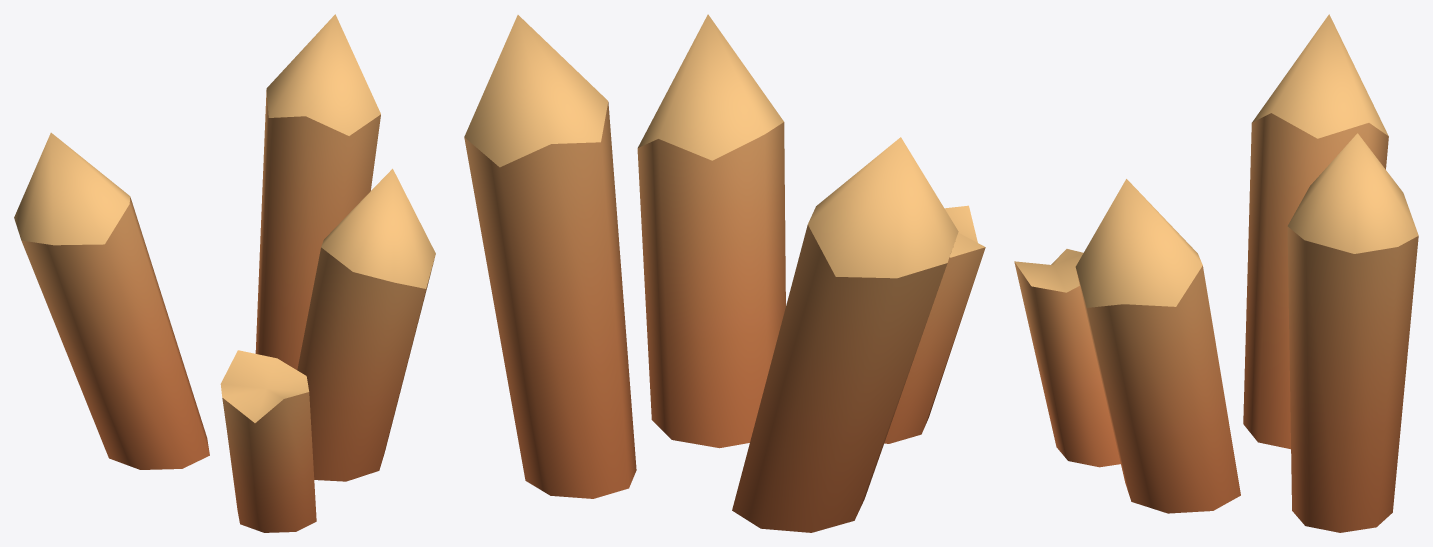
File: spikes_toon_material_0.001.glb
3 renders of one model, left to right at view 1: azimuth 30°, elevation 25°; view 2: azimuth 150°, elevation 25°; view 3: azimuth 270°, elevation 25°, orthographic. The views are drawn at different scales.
Parts seen in each view (by area): view 1: spikes_toon_material_0.001; view 2: spikes_toon_material_0.001; view 3: spikes_toon_material_0.001.
Boxes of the visible parts, left/top/right/bottom form: spikes_toon_material_0.001: left=14, top=14, right=435, bottom=532; spikes_toon_material_0.001: left=464, top=14, right=985, bottom=532; spikes_toon_material_0.001: left=1014, top=14, right=1418, bottom=532.
Bounding box in the file's own units: 0.9339 × 0.9059 × 0.8127.
Materials: 1 (1 with a texture image).
